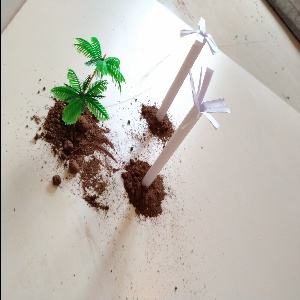plant: (50, 37, 123, 126)
weed: (162, 72, 226, 194), (152, 17, 213, 121)
